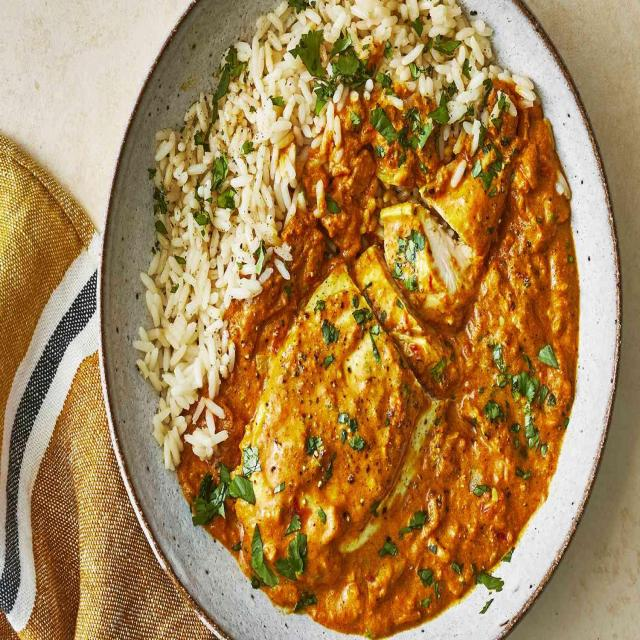chicken: (264, 94, 538, 620)
rice: (139, 78, 286, 390)
